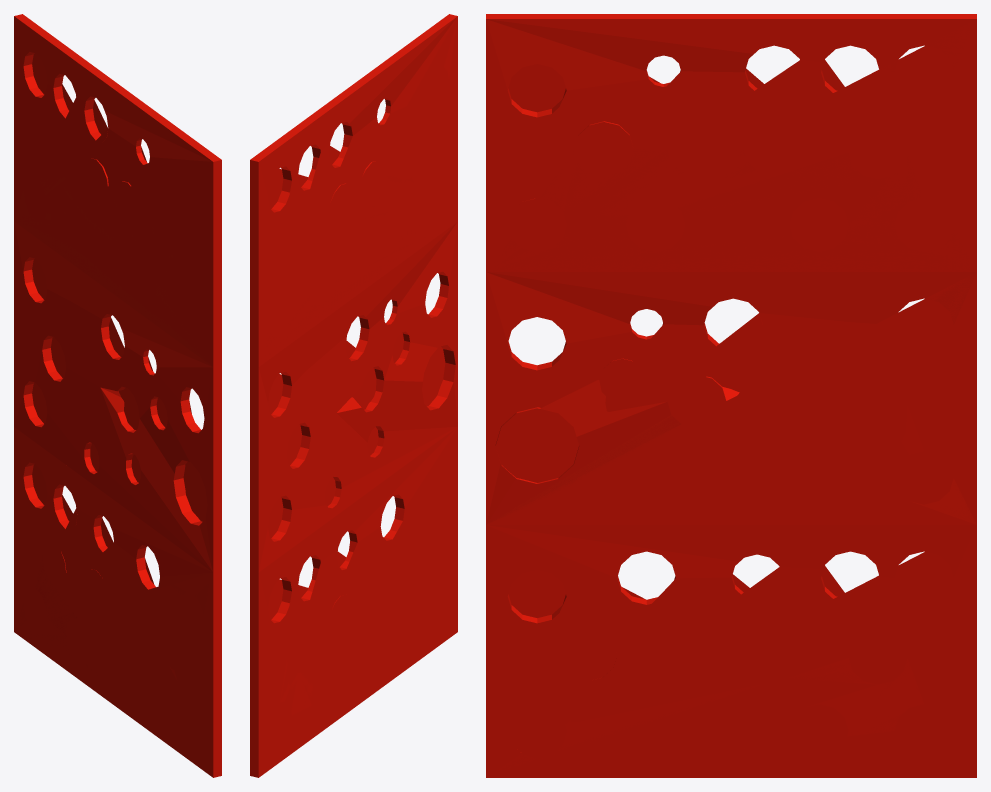
File: board1.fbx
The picture shows the model from 3 angles, left to right: view 1: azimuth 30°, elevation 25°; view 2: azimuth 150°, elevation 25°; view 3: azimuth 270°, elevation 25°; orthographic projection. The views are drawn at different scales.
Visible parts, largest first — view 1: Plane.008; view 2: Plane.008; view 3: Plane.008.
Part boxes in pixels (x1,y1,x2,y2): Plane.008: [14, 14, 221, 777]; Plane.008: [250, 14, 457, 777]; Plane.008: [486, 14, 976, 777].
Bounding box in the file's own units: 12.76 × 617 × 362.
